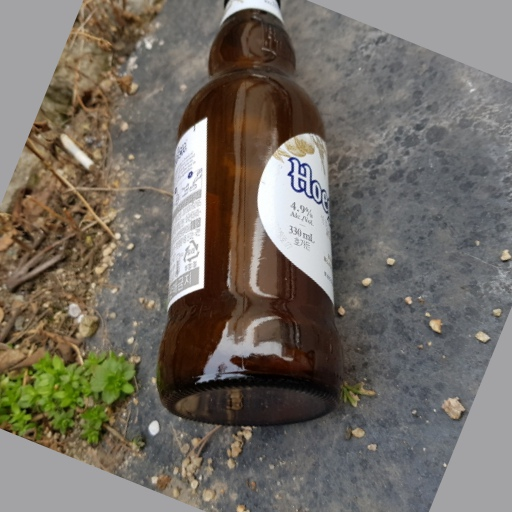Glass_1: (162, 1, 340, 431)
